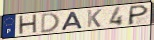4: (108, 6, 125, 28)
A: (61, 11, 85, 31)
D: (40, 12, 61, 34)
H: (17, 14, 38, 37)
K: (86, 9, 103, 28)
P: (127, 4, 150, 26)
